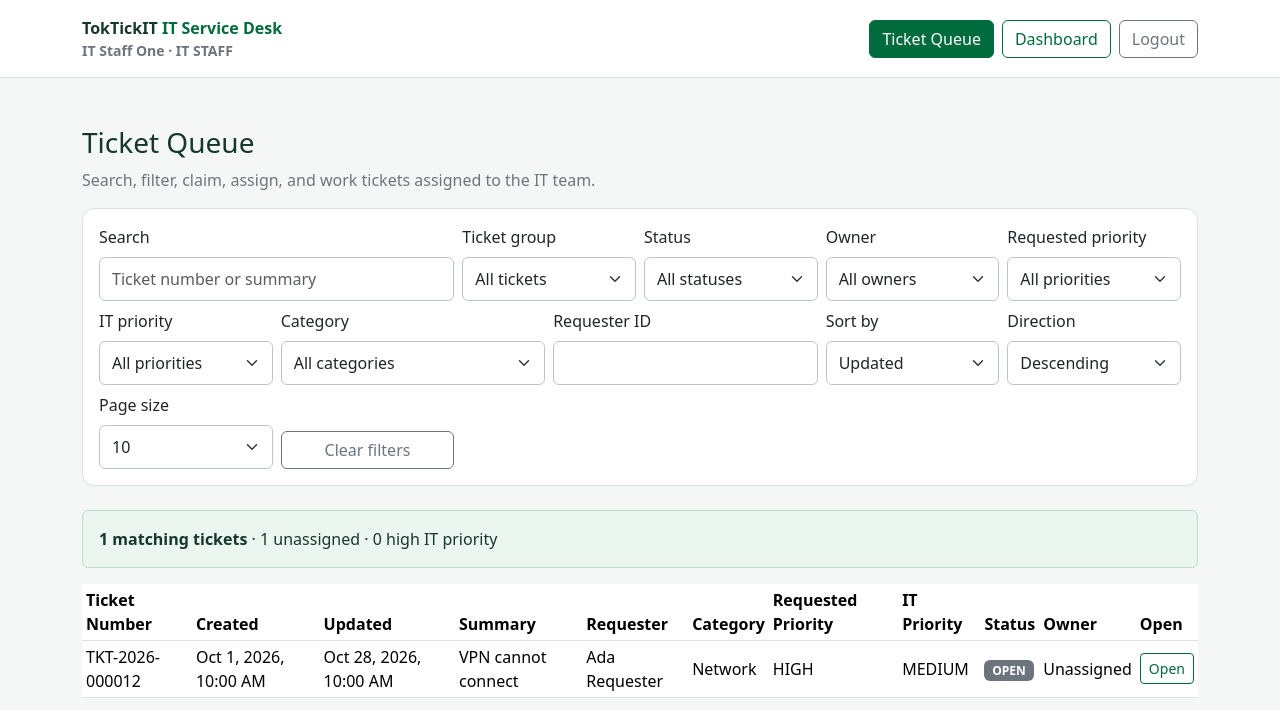
Scenario: Lab 4 Ticket workflow controls › refreshes the Ticket after a conflict, restores its real status, and keeps safe feedback visible
This screenshot has width=1280, height=710.
Click the button "Ticket Queue": (932, 38) [869,20,994,58]
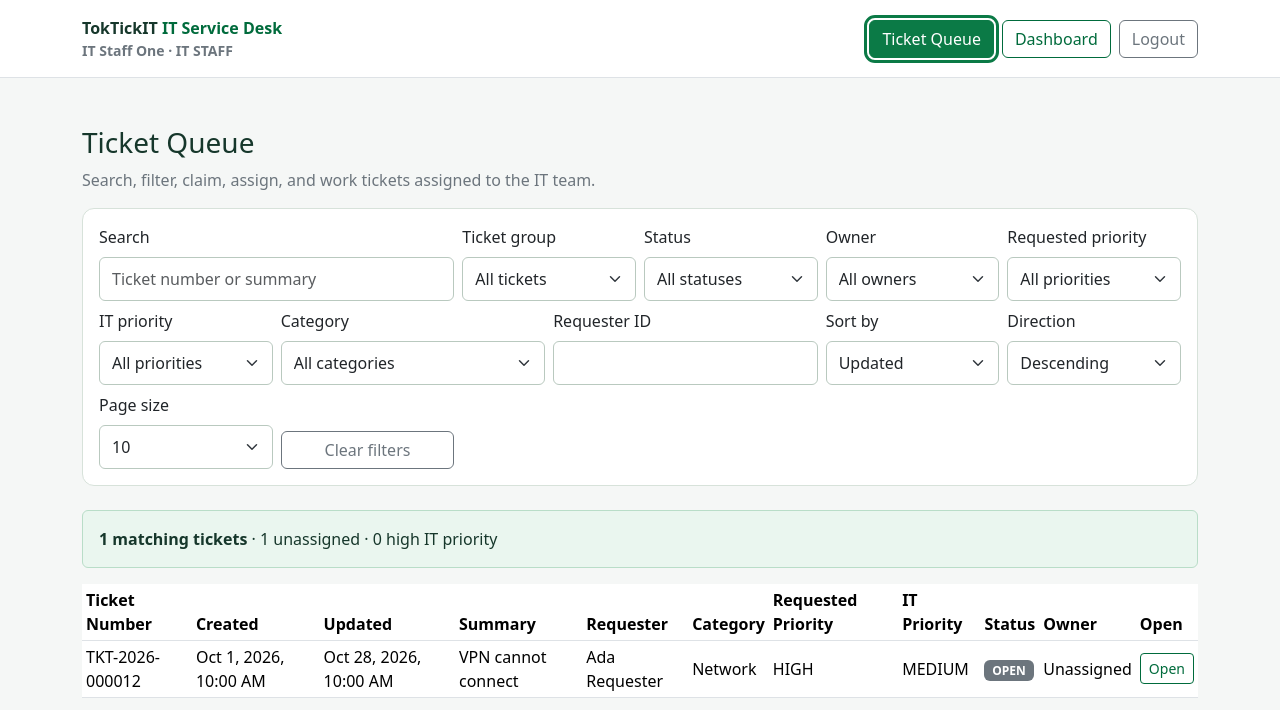
Click the button with aria-label "Open TKT-2026-000012": (1167, 669) [1140,653,1194,684]
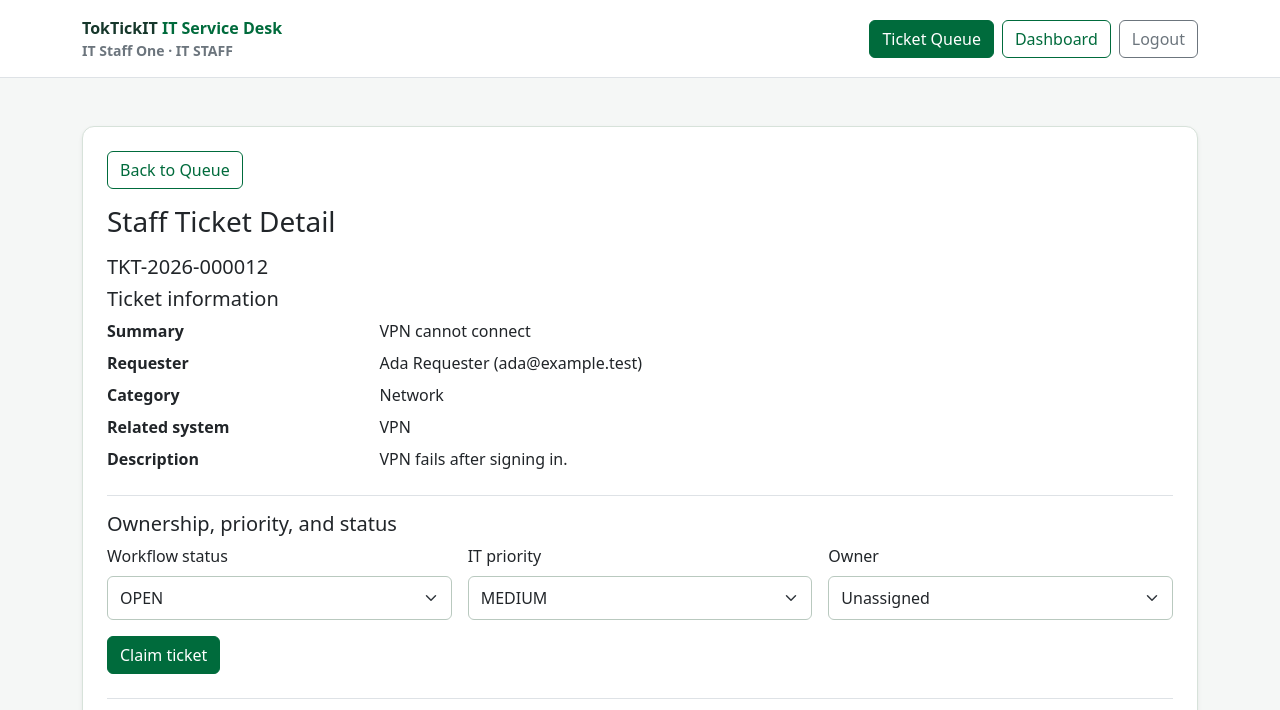
Now the heading "Staff Ticket Detail" is shown, box [107,202,336,240]
Select "IN_PROGRESS" in the dropdown labelled "Workflow status": (279, 598) [107,576,452,620]
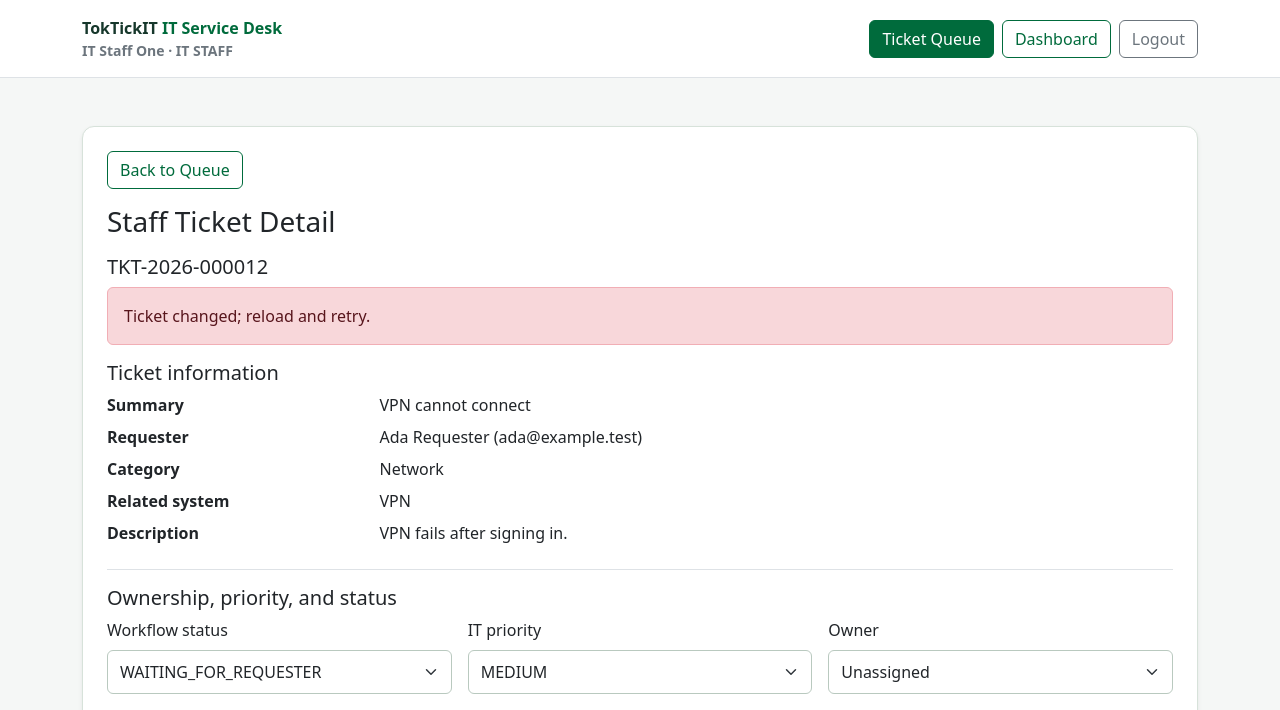
Now the heading "Staff Ticket Detail" is shown, box [107,202,336,240]
Now the message reads "Ticket changed; reload and retry.", box [124,305,370,327]
